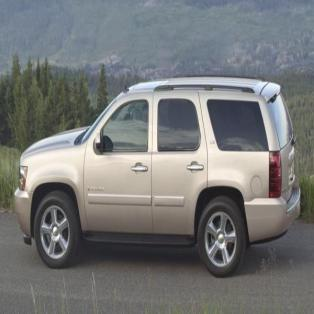Auto: (14, 76, 302, 276)
